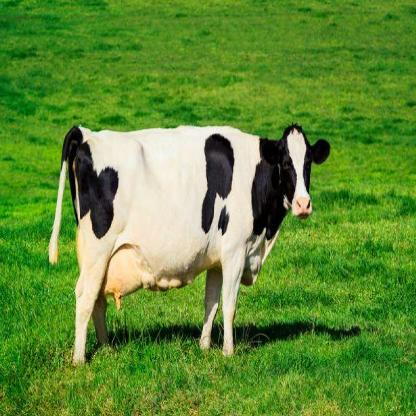cow: (49, 124, 332, 366)
